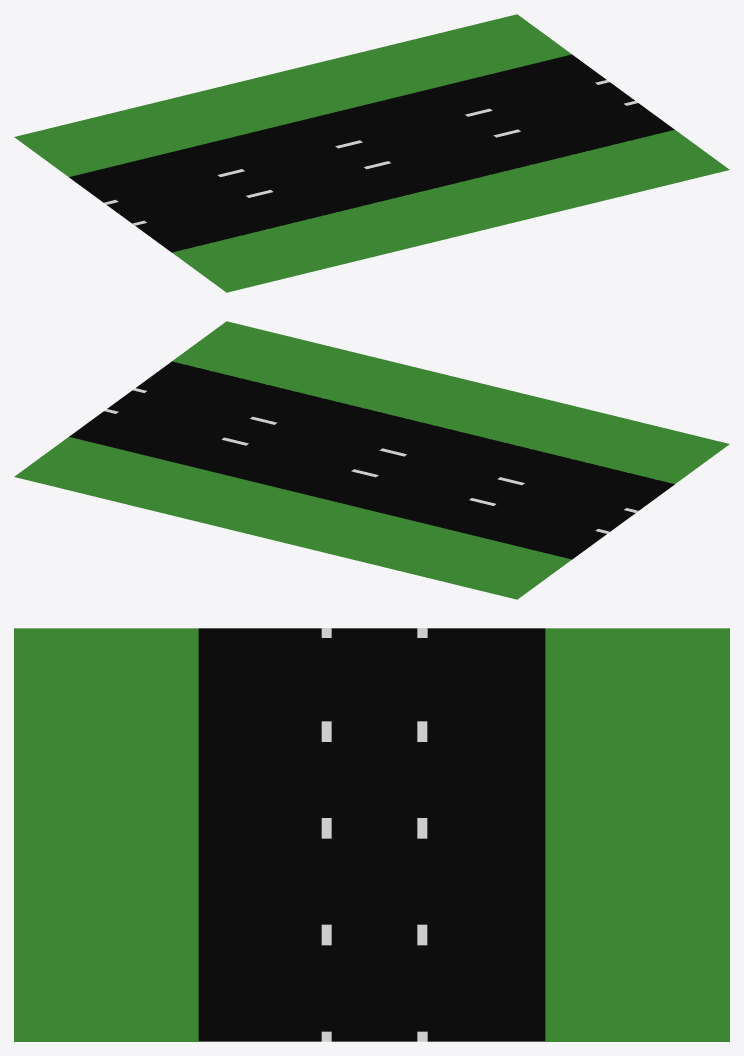
Rendered from Grasslands_FIXED.fbx.
The picture shows the model from 3 angles, top to bottom: view 1: azimuth 30°, elevation 25°; view 2: azimuth 150°, elevation 25°; view 3: azimuth 270°, elevation 25°; orthographic projection. The views are drawn at different scales.
Parts seen in each view (by area): view 1: Plane.003, Plane.001, Plane.002; view 2: Plane.003, Plane.001, Plane.002; view 3: Plane.003, Plane.001, Plane.002.
Boxes of the visible parts, x1,y1,x2,y2 form: Plane.003: (69,54,674,252); Plane.001: (14,14,571,176); Plane.002: (172,130,729,292); Plane.003: (69,361,674,559); Plane.001: (14,437,571,599); Plane.002: (172,321,729,483); Plane.003: (198,628,545,1041); Plane.001: (545,628,729,1041); Plane.002: (14,628,198,1041).
Bounding box in the file's own units: 3837 × 0.8354 × 2808.
